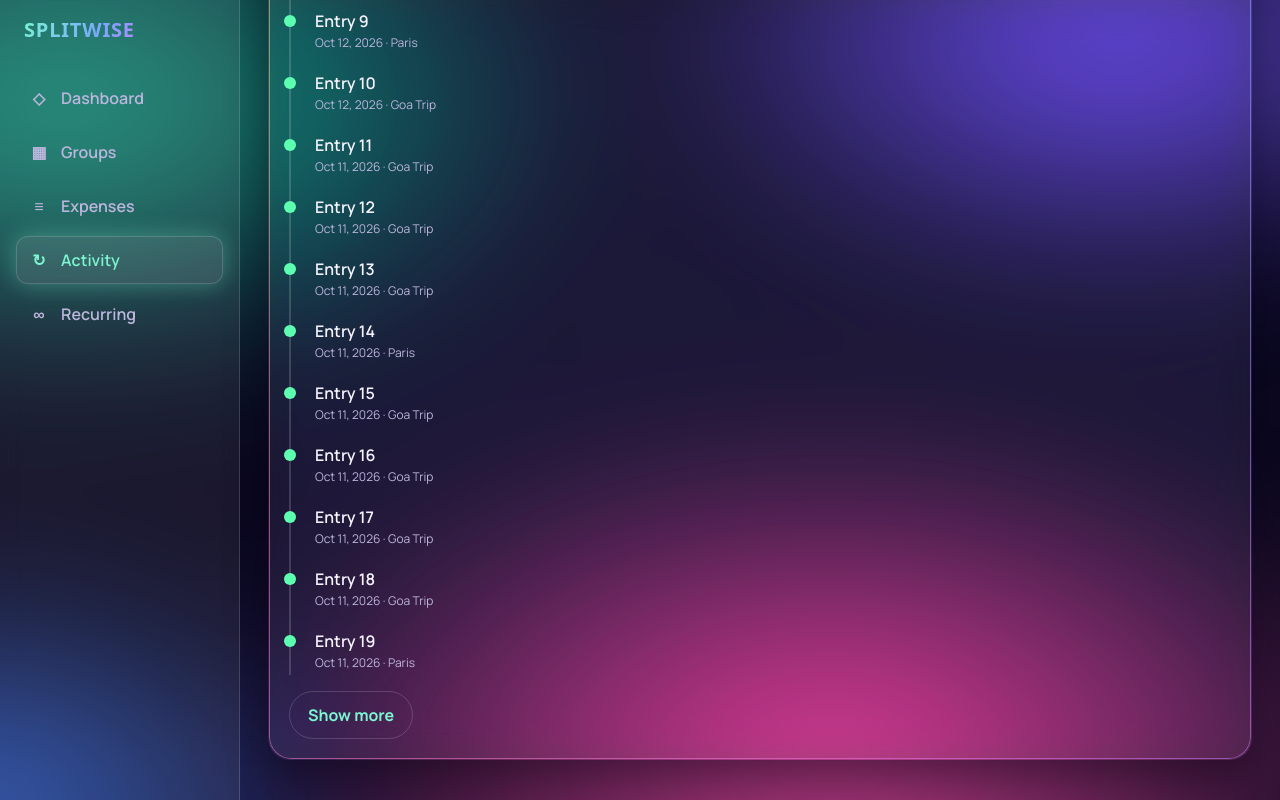
Test: activity › lists what happened, with what changed in an edit, twenty at a time
(page scrolled)
Expected: the text "Entry 20" is not shown
Click the button "Show more": (351, 714) top-left (289, 690), bottom-right (413, 738)
(page scrolled)
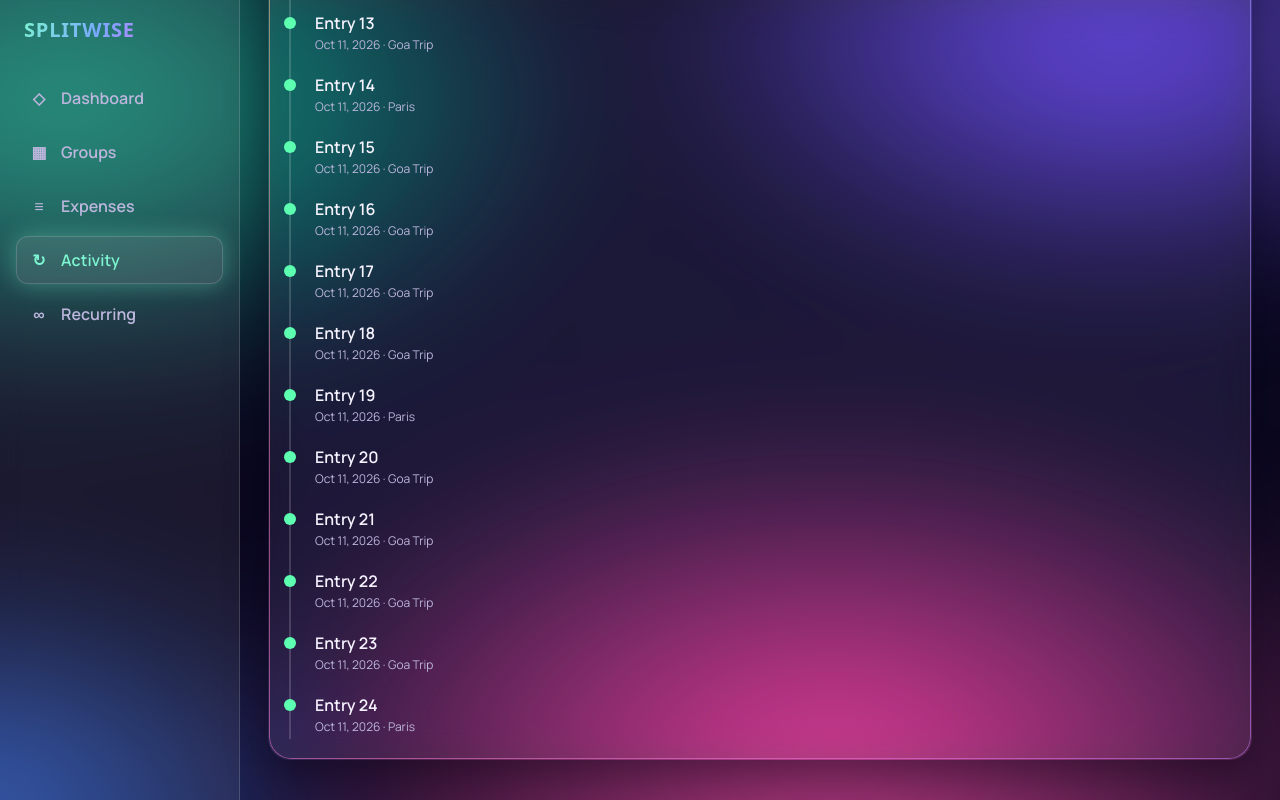
Expected: the text "Entry 24" is shown, top-left (315, 694), bottom-right (378, 716)
Expected: the button "Show more" is gone
